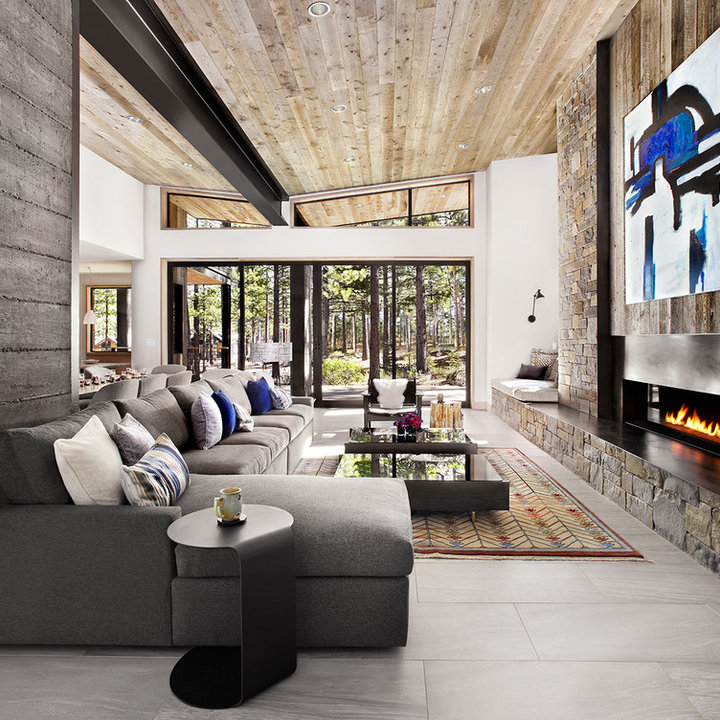sofa: (0, 367, 418, 655)
table: (340, 398, 514, 516)
wall art: (618, 26, 719, 308)
